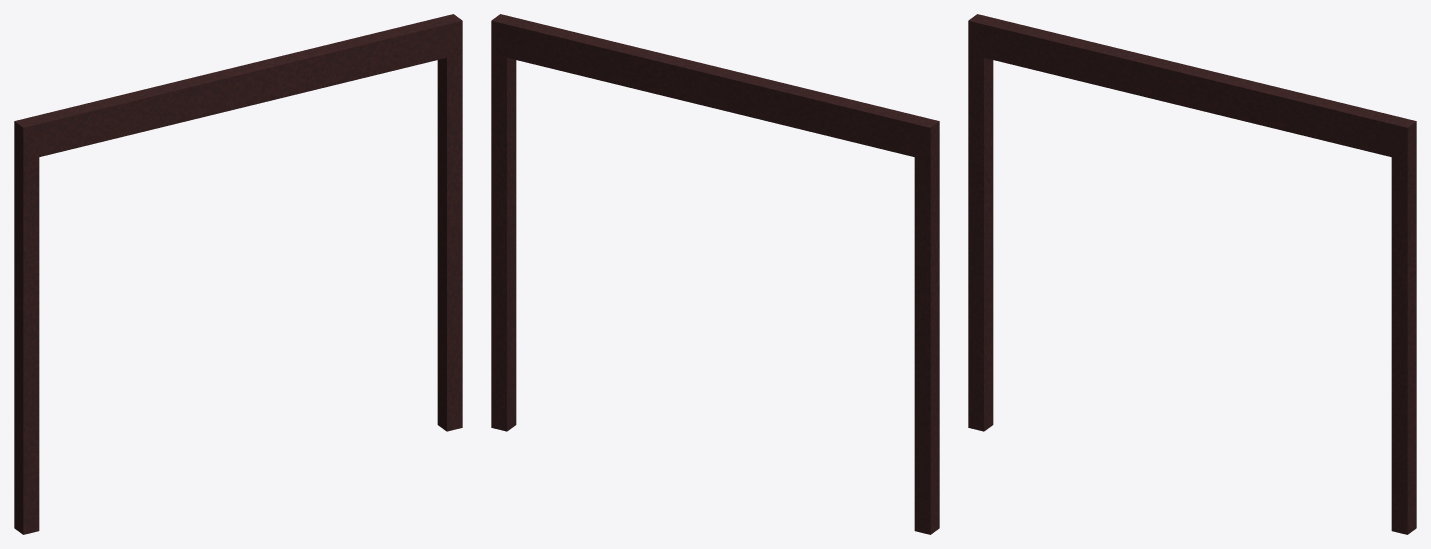
The model's file is hyr-frame_h22-w27_rustycopper.fbx.
3 views of the same model, side by side, from view 1: azimuth 30°, elevation 25°; view 2: azimuth 150°, elevation 25°; view 3: azimuth 330°, elevation 25° (orthographic).
Visible parts, largest first — view 1: hyr-frame_h22-w27_rustycopper; view 2: hyr-frame_h22-w27_rustycopper; view 3: hyr-frame_h22-w27_rustycopper.
Part boxes in pixels (x1,y1,x2,y2): hyr-frame_h22-w27_rustycopper: (14, 14, 462, 534); hyr-frame_h22-w27_rustycopper: (491, 14, 939, 534); hyr-frame_h22-w27_rustycopper: (968, 14, 1416, 534).
Size of the model in its own units: 277 by 245 by 10.
Materials: 1 (1 with a texture image).
